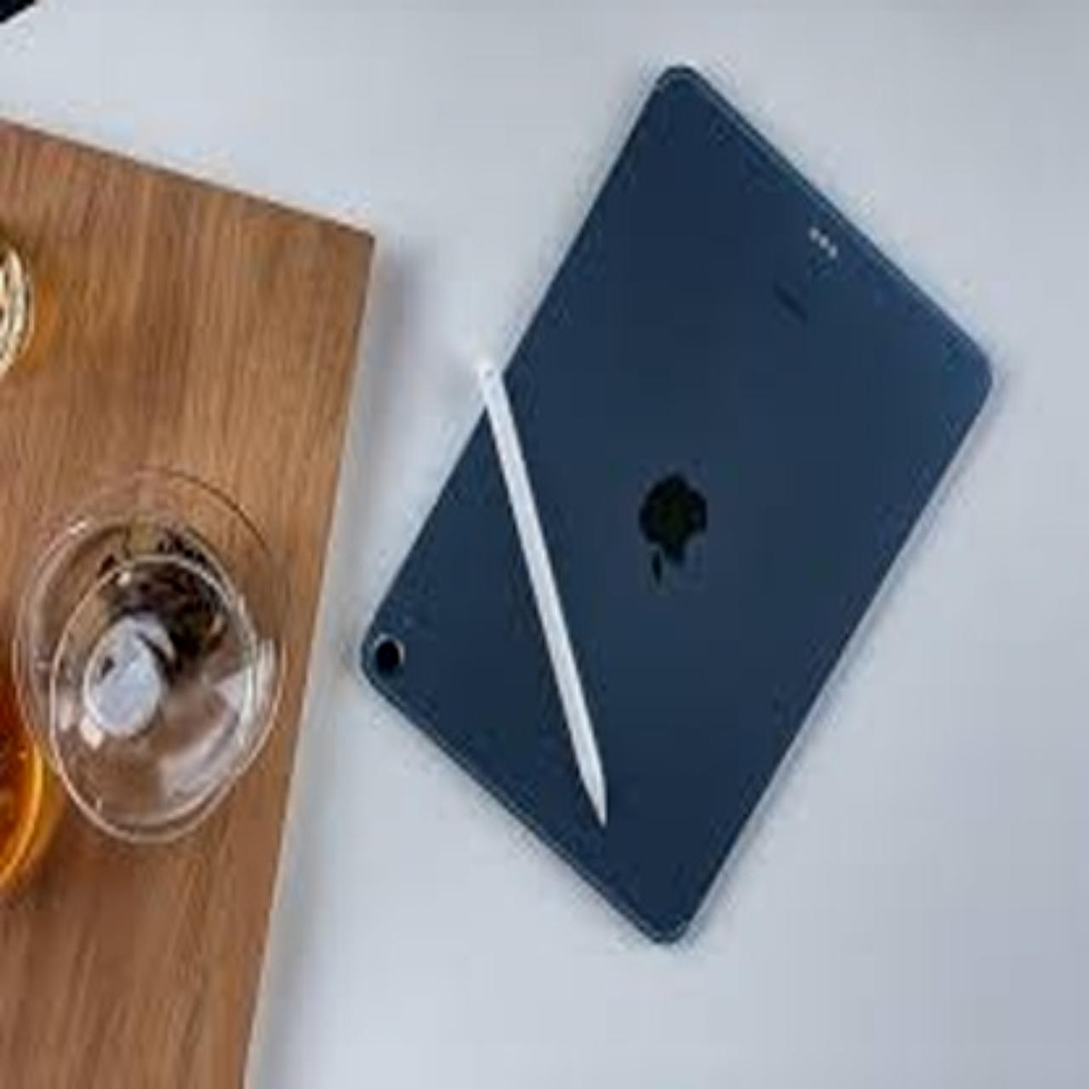Tablet_PC: (351, 50, 1021, 958)
